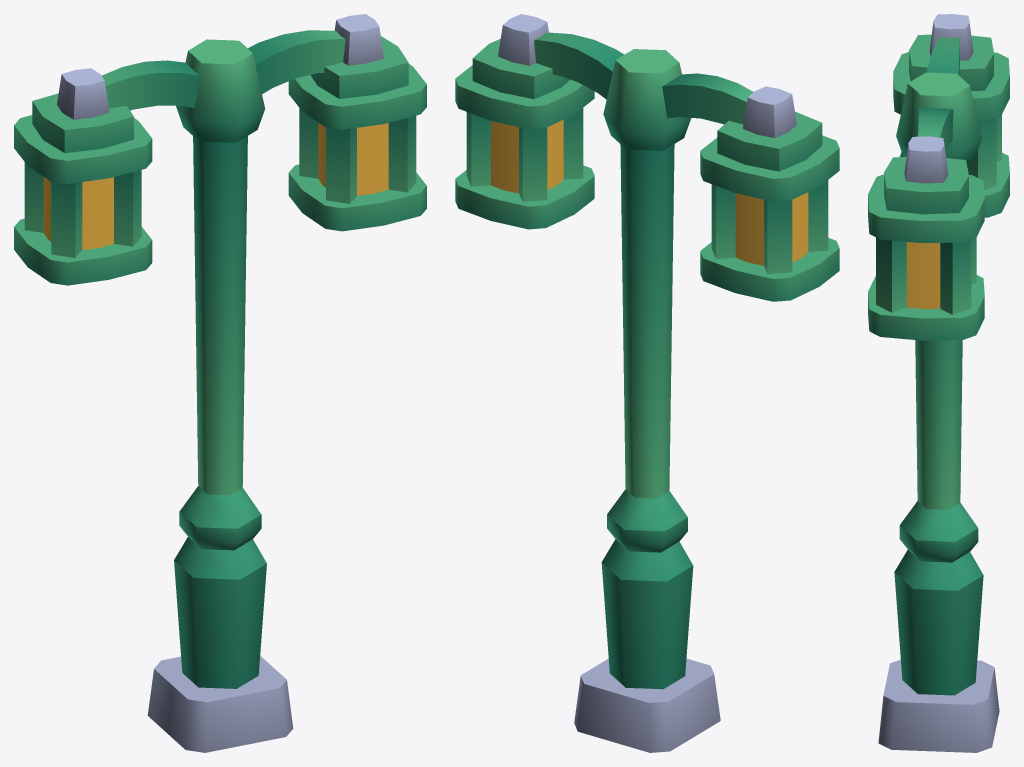
Rendered from lightpost-double_lev1.glb.
3 views of the same model, side by side, from view 1: azimuth 30°, elevation 25°; view 2: azimuth 150°, elevation 25°; view 3: azimuth 270°, elevation 25° (orthographic). The views are drawn at different scales.
Parts seen in each view (by area): view 1: lightpost-double_lev1; view 2: lightpost-double_lev1; view 3: lightpost-double_lev1.
Part boxes in pixels (left/top/right/bottom): lightpost-double_lev1: left=14, top=14, right=426, bottom=752; lightpost-double_lev1: left=455, top=14, right=839, bottom=752; lightpost-double_lev1: left=868, top=14, right=1009, bottom=752.
Bounding box in the file's own units: 3.62 × 6.33 × 1.26.
Materials: 1 (1 with a texture image).
